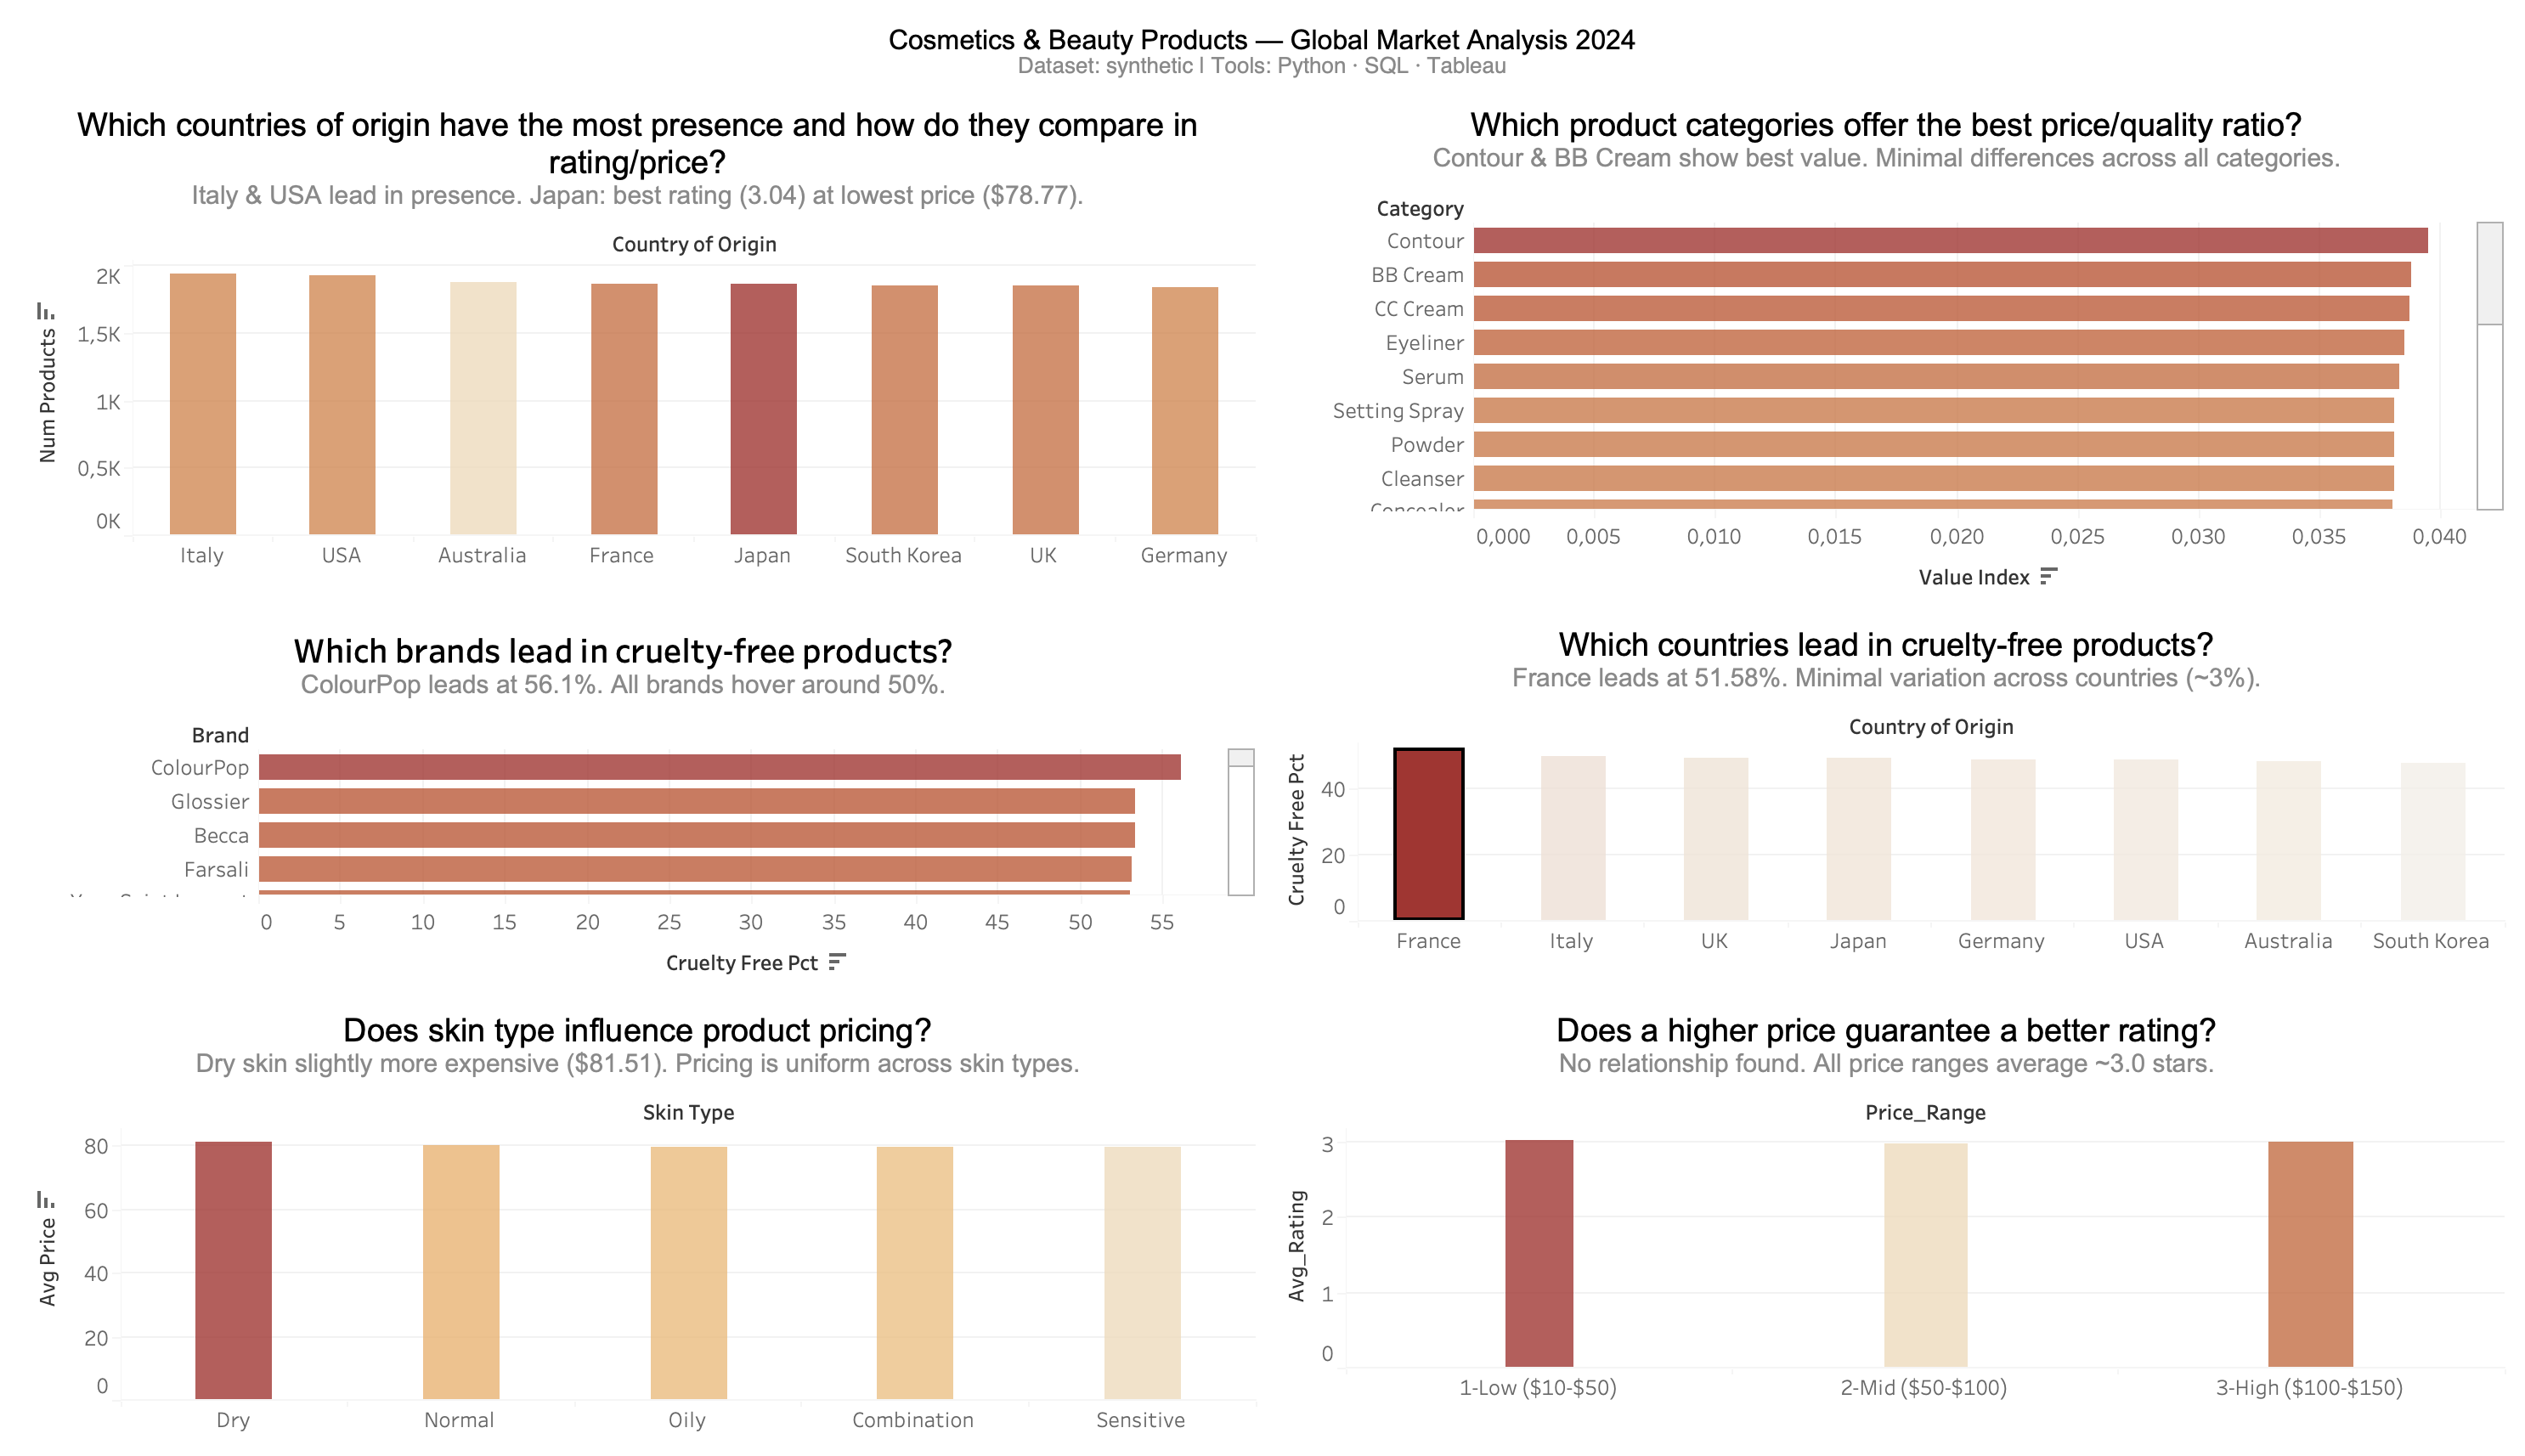

This screenshot's page, from the dashboard's own definition file:
{"tool":"tableau","page":{"name":"Cosmetics Market Analysis 2024","canvas":[1000,1000],"units":"permille","ordinal":0},"visuals":[{"type":"text","box":[5.4,10.5,989.2,52.4]},{"type":"worksheet","title":"Countries Analysis","mark":"Automatic","rows":["Num_Products"],"cols":["Country_of_Origin"],"box":[5.4,62.8,494.4,356.1]},{"type":"worksheet","title":"Category Value index","mark":"Automatic","rows":["Category"],"cols":["Value_Index"],"box":[499.7,62.8,494.9,356.1]},{"type":"worksheet","title":"Cruelty-Free by Brand","mark":"Automatic","rows":["Brand"],"cols":["Cruelty_Free_Pct"],"box":[5.4,418.9,494.7,264.5]},{"type":"worksheet","title":"Cruelty-Free by Country","mark":"Bar","rows":["Cruelty_Free_Pct"],"cols":["Country_of_Origin"],"box":[500.1,418.9,494.5,264.5]},{"type":"worksheet","title":"Price by Skin Type","mark":"Automatic","rows":["Avg_Price"],"cols":["Skin_Type"],"box":[5.4,683.5,494.4,306.1]},{"type":"worksheet","title":"Price vs Rating","mark":"Automatic","rows":["Avg_Rating"],"cols":["Price_Range"],"box":[499.8,683.5,494.8,306.1]}]}

Visuals, with their boxes on the dashboard's canvas, which has no fixed pixel size, in thousandths of its width and height (x1, y1, x2, y2). These are canvas units, not pixel positions in the 2525x1456 screenshot, which may show the page scaled, cropped or inside an application window:
text: x1=5, y1=10, x2=995, y2=63
"Countries Analysis" worksheet: x1=5, y1=63, x2=500, y2=419
"Category Value index" worksheet: x1=500, y1=63, x2=995, y2=419
"Cruelty-Free by Brand" worksheet: x1=5, y1=419, x2=500, y2=683
"Cruelty-Free by Country" worksheet (Bar marks): x1=500, y1=419, x2=995, y2=683
"Price by Skin Type" worksheet: x1=5, y1=684, x2=500, y2=990
"Price vs Rating" worksheet: x1=500, y1=684, x2=995, y2=990
